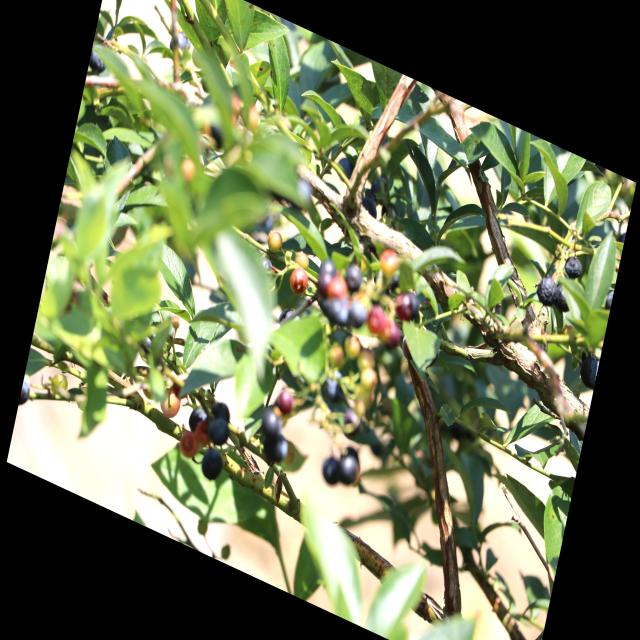blueberry: (262, 428, 290, 466), (578, 349, 600, 390), (534, 271, 559, 306), (201, 445, 224, 482), (338, 450, 361, 486), (321, 452, 344, 487), (261, 406, 285, 438), (207, 414, 231, 446), (552, 281, 574, 314), (564, 252, 584, 281), (344, 263, 364, 292), (319, 255, 337, 285), (211, 399, 231, 423)
blueberry-halfripe: (157, 378, 186, 422), (392, 283, 419, 325), (285, 263, 313, 302), (379, 316, 406, 354), (365, 302, 388, 339), (178, 428, 199, 460), (277, 386, 297, 416)
blueberry-unripe: (262, 227, 284, 258), (292, 246, 311, 273)
